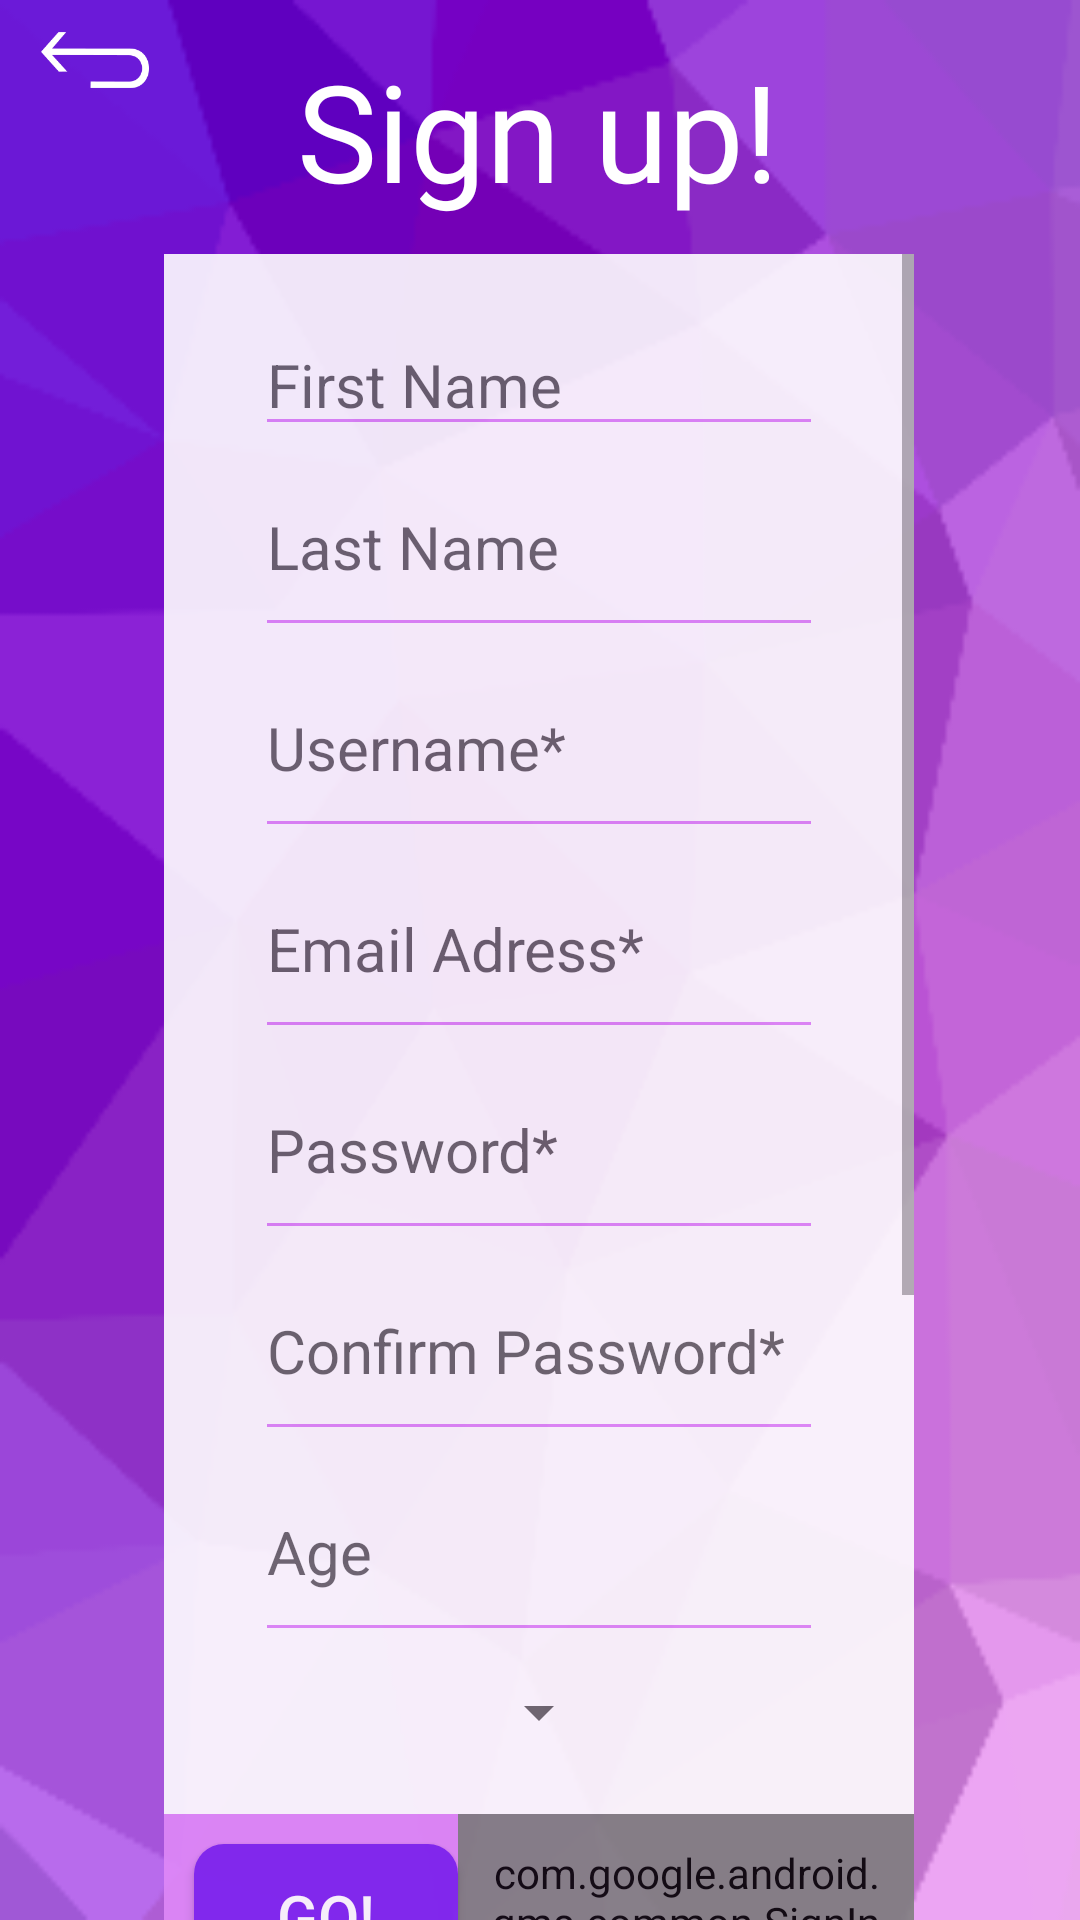

Icon bounding boxes for this 1080 x 1920 phone screenshot, format (x1, y1, x2, y2):
back: (41, 32, 149, 88)
